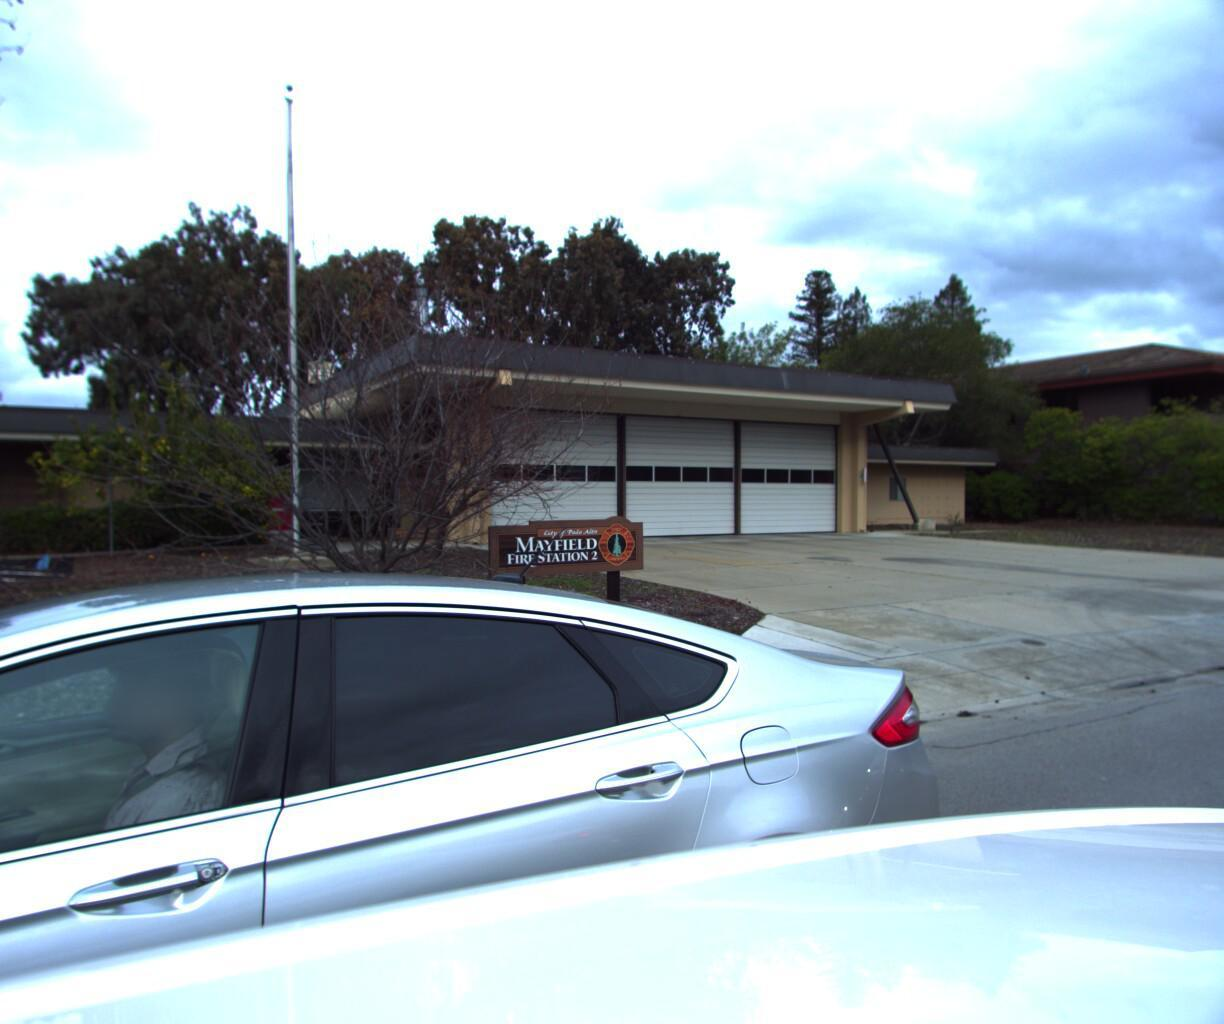car: (0, 513, 1021, 1024)
